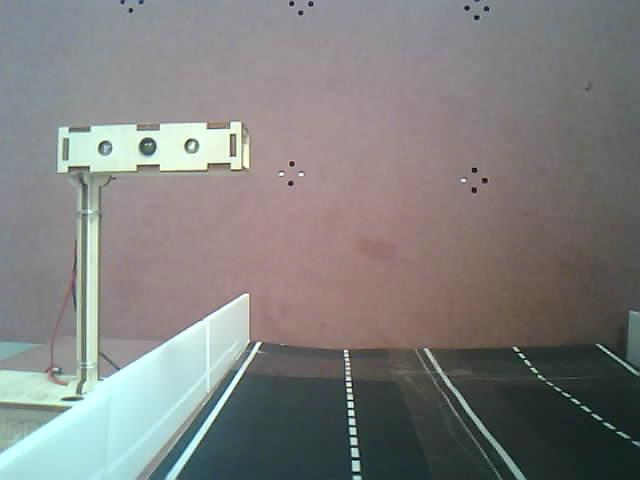no: (41, 104, 271, 204)
